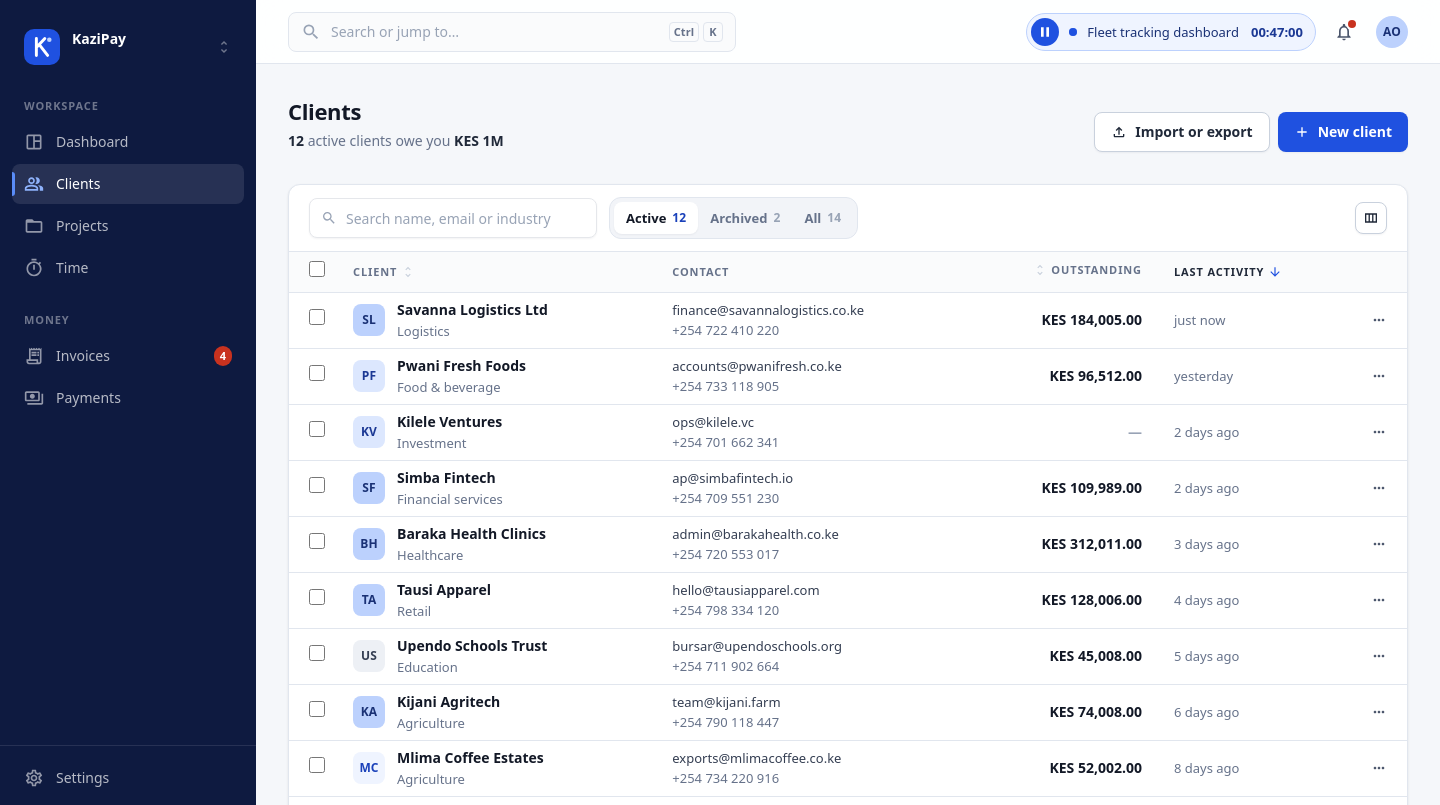
it: client search shows a no-results state that can be cleared
This screenshot has width=1440, height=805.
Type "zzz-no-match" into the search field named "Search clients" at (453, 218), box [309,198,597,238]
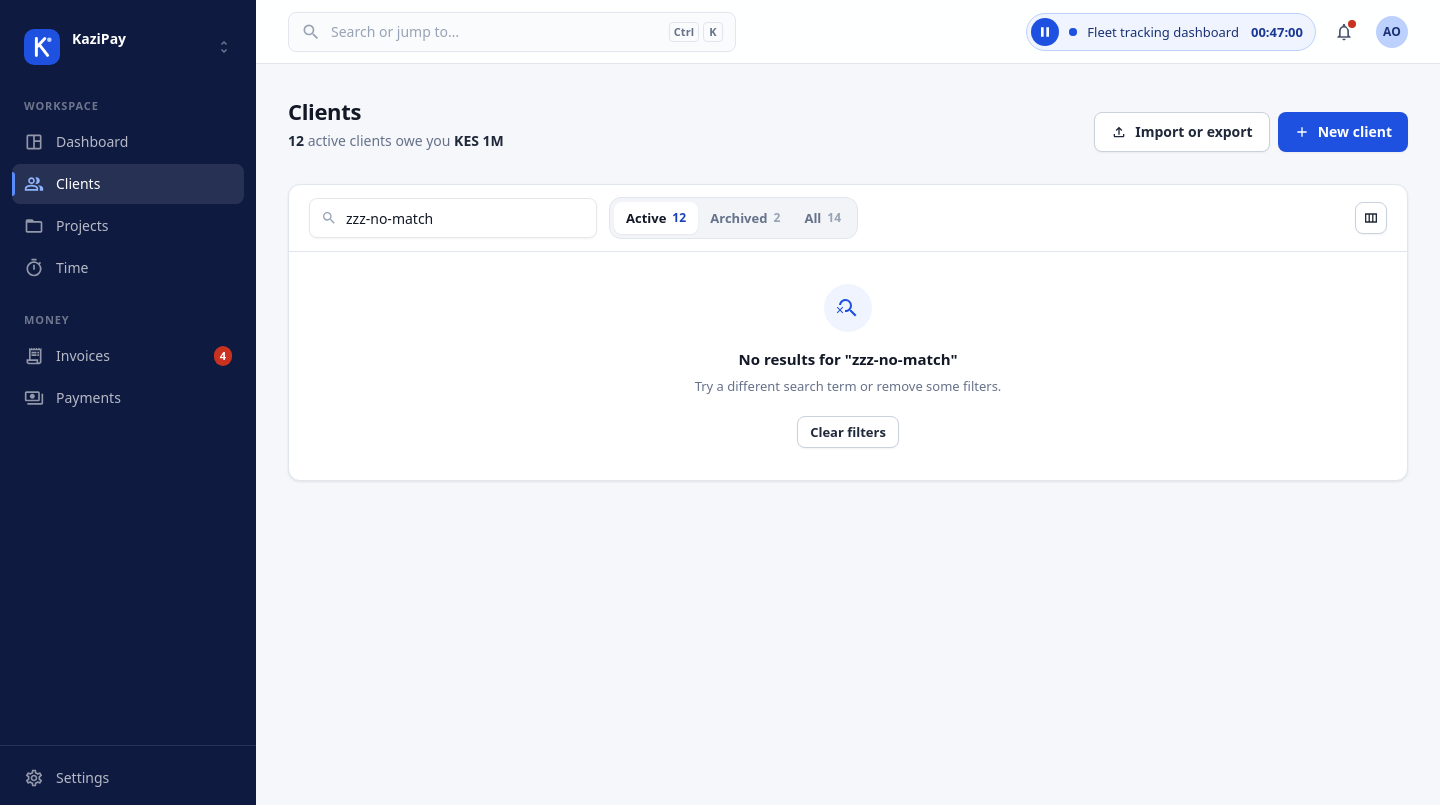
expect the heading "No results for \"zzz-no-match\"" is shown: met, box [738,348,958,370]
Click the button "Clear filters" at (848, 432), box [797,416,899,448]
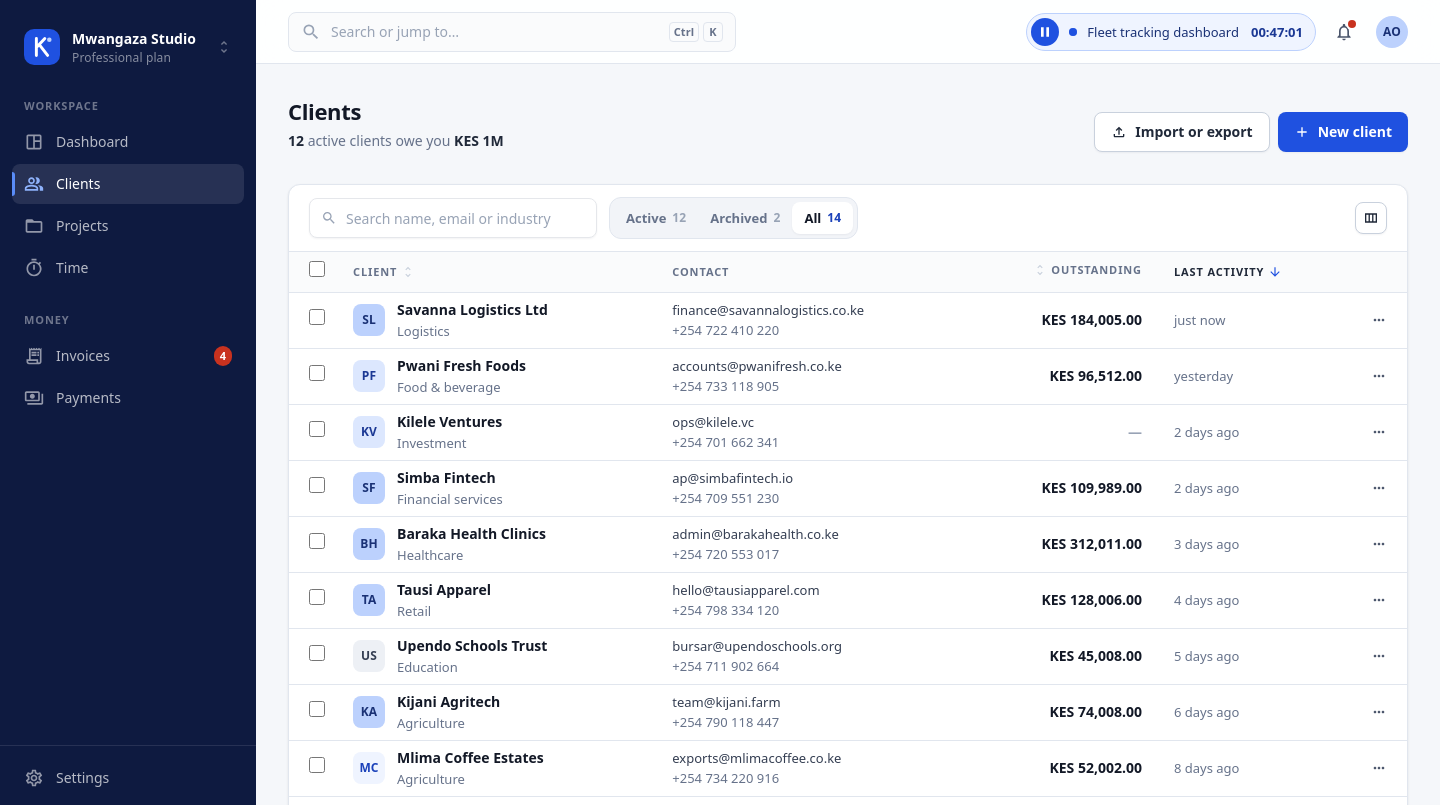
expect the text "Savanna Logistics Ltd" is shown: met, box [397,299,548,321]
